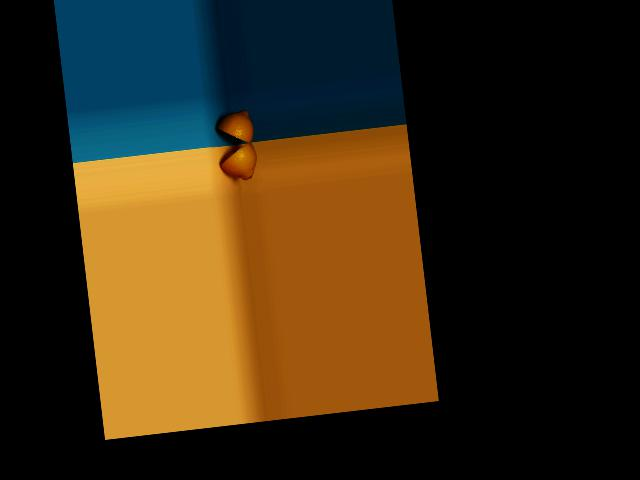lemon: (211, 104, 257, 148)
